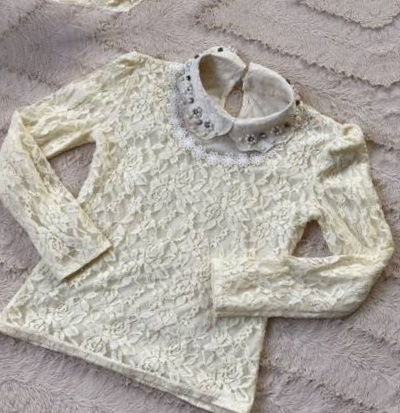Blouse: (0, 30, 400, 413), (0, 0, 342, 24), (0, 97, 13, 413)
